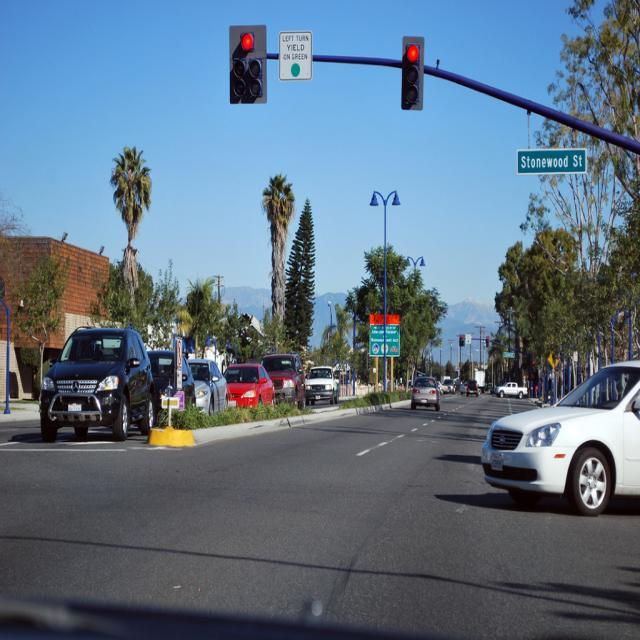traffic light: (231, 23, 267, 99), (399, 35, 430, 119)
